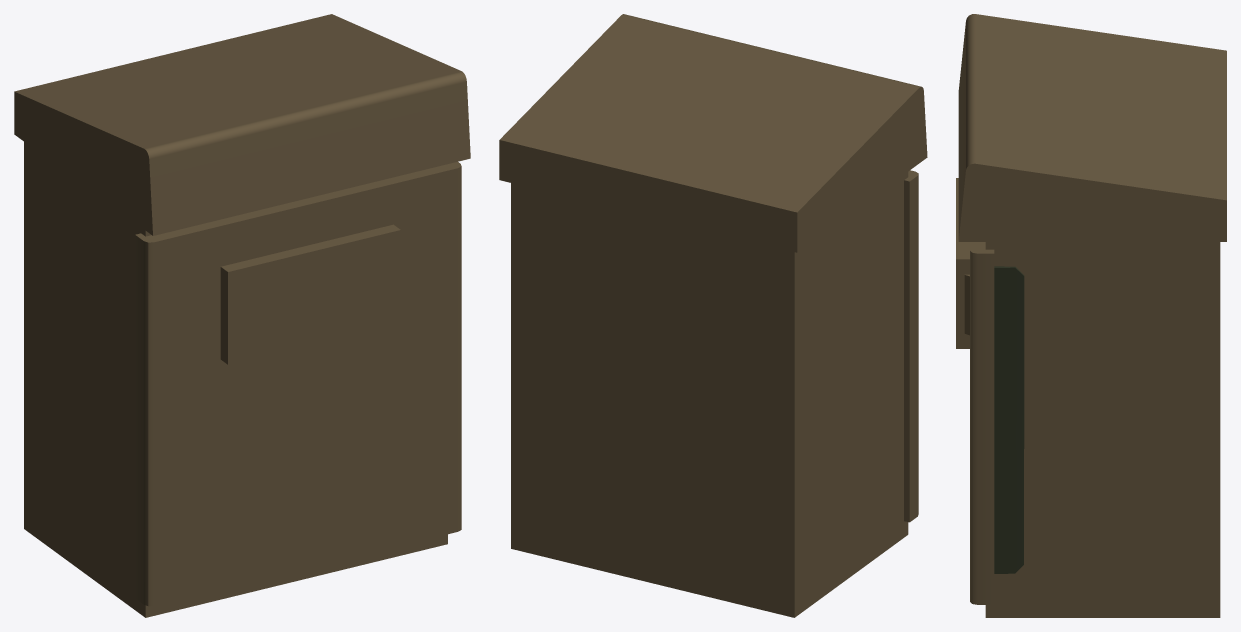
The model's file is middle thing in piperoom.fbx.
3 views of the same model, side by side, from view 1: azimuth 30°, elevation 25°; view 2: azimuth 150°, elevation 25°; view 3: azimuth 270°, elevation 25° (orthographic). The views are drawn at different scales.
Visible parts, largest first — view 1: polySurface6; view 2: polySurface6; view 3: polySurface6.
Boxes of the visible parts, x1,y1,x2,y2 form: polySurface6: (14,14,470,617); polySurface6: (499,14,927,617); polySurface6: (956,14,1226,617).
Size of the model in its own units: 5.33 by 7.61 by 4.07.
